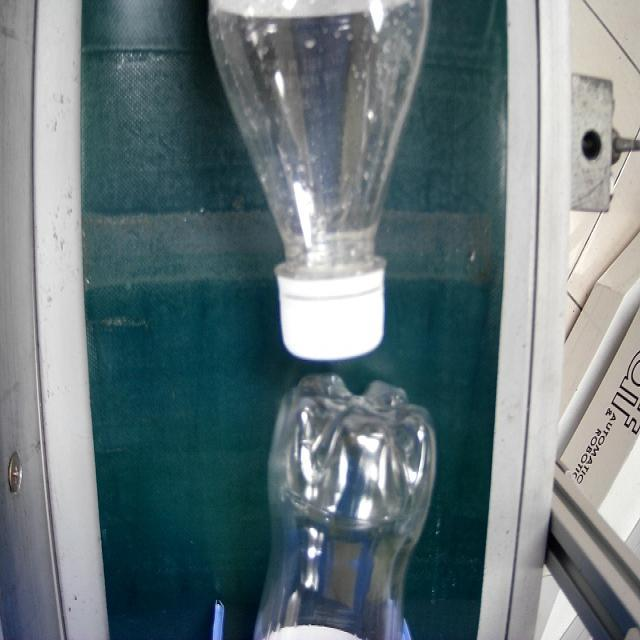Pet_Bottle: (208, 3, 428, 354), (263, 377, 433, 640)
